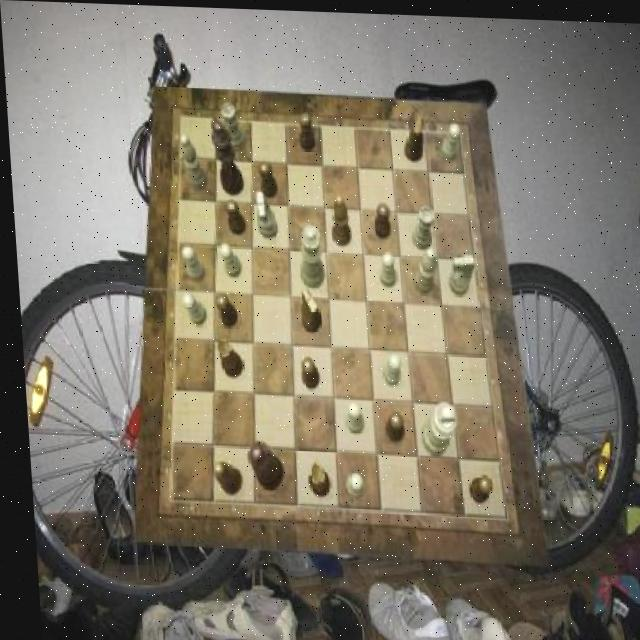bishop: (328, 192, 350, 245), (207, 461, 236, 496)
black-bishop: (209, 117, 242, 195)
black-king: (401, 112, 424, 160), (296, 287, 318, 331)
black-knight: (212, 292, 235, 326), (256, 158, 275, 196), (223, 199, 243, 235), (296, 110, 314, 149), (370, 200, 389, 236), (463, 473, 487, 501), (379, 409, 400, 440), (297, 356, 316, 389)
black-pawn: (241, 440, 279, 489)
black-queen: (211, 336, 238, 376), (300, 460, 325, 495)
black-rook: (179, 133, 206, 190), (409, 246, 435, 292)
white-bishop: (414, 399, 454, 455)
white-king: (443, 253, 472, 295), (254, 190, 277, 237)
white-knight: (179, 245, 203, 281), (438, 120, 460, 159), (178, 292, 203, 326), (217, 241, 239, 276), (376, 349, 397, 383), (339, 400, 360, 433), (376, 249, 394, 284), (340, 470, 360, 496)
white-pawn: (295, 223, 322, 287)
white-queen: (221, 104, 246, 152), (409, 204, 434, 248)
